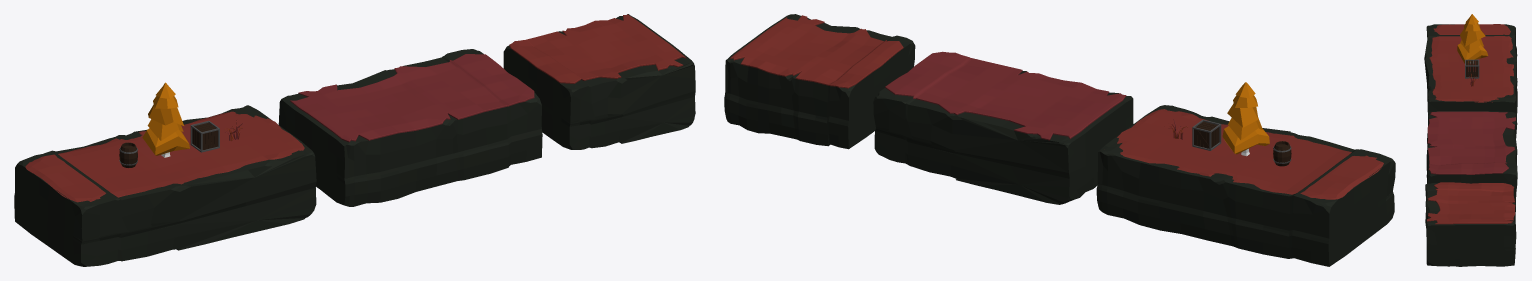
File: low polyhell  LEVEL ITEMS .fbx
3 views of the same model, side by side, from view 1: azimuth 30°, elevation 25°; view 2: azimuth 150°, elevation 25°; view 3: azimuth 270°, elevation 25° (orthographic). The views are drawn at different scales.
Visible parts, largest first — view 1: Cube.005, Cube.004, Cube.006, Cube.003, Circle.002, Cube.001, Cylinder; view 2: Cube.005, Cube.004, Cube.006, Cube.003, Circle.002, Cube.001, Cylinder; view 3: Cube.006, Cube.005, Cube.003, Cube.004, Circle.002, Cube.001, Cube.
Boxes of the visible parts, x1=… form: Cube.005: x1=278, y1=49, x2=542, y2=206; Cube.004: x1=14, y1=105, x2=316, y2=266; Cube.006: x1=503, y1=14, x2=695, y2=149; Cube.003: x1=25, y1=111, x2=304, y2=202; Circle.002: x1=142, y1=82, x2=189, y2=155; Cube.001: x1=192, y1=122, x2=217, y2=150; Cylinder: x1=119, y1=142, x2=137, y2=167; Cube.005: x1=873, y1=51, x2=1133, y2=204; Cube.004: x1=1096, y1=105, x2=1395, y2=266; Cube.006: x1=724, y1=14, x2=915, y2=149; Cube.003: x1=1117, y1=109, x2=1383, y2=199; Circle.002: x1=1222, y1=82, x2=1269, y2=154; Cube.001: x1=1194, y1=121, x2=1219, y2=148; Cylinder: x1=1273, y1=141, x2=1291, y2=166; Cube.006: x1=1425, y1=182, x2=1516, y2=266; Cube.005: x1=1426, y1=111, x2=1517, y2=211; Cube.003: x1=1429, y1=24, x2=1513, y2=102; Cube.004: x1=1424, y1=24, x2=1517, y2=137; Circle.002: x1=1457, y1=14, x2=1488, y2=63; Cube.001: x1=1466, y1=60, x2=1478, y2=77; Cube: x1=1465, y1=59, x2=1479, y2=78.
Bounding box in the file's own units: 3508 × 770 × 694.
